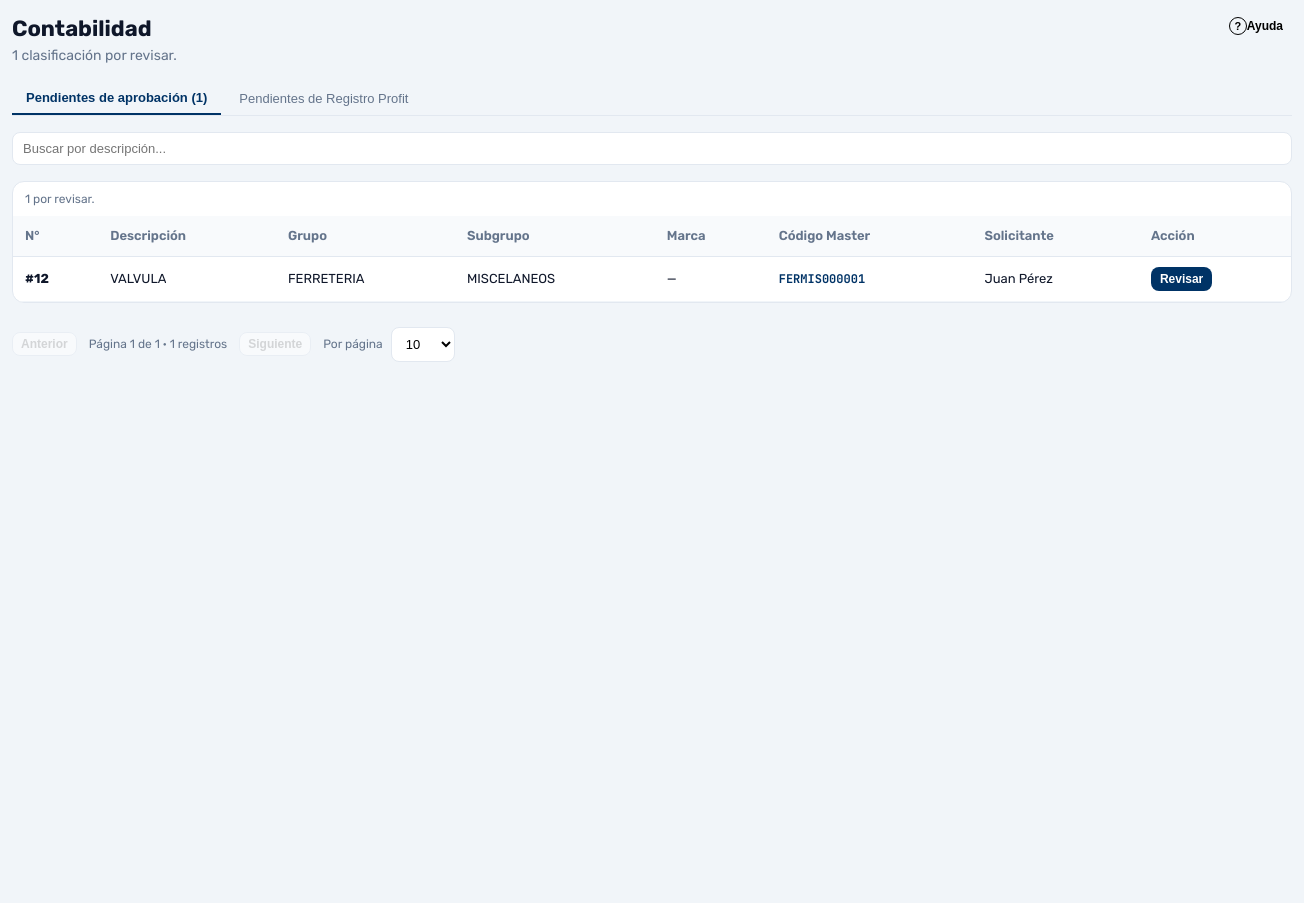
Test case: ContabilidadList 11C › bandeja con conteo y revisión
Expected: the text "1 clasificación por revisar." is shown, [12,45,177,66]
Expected: the text "VALVULA" is shown, [110,269,166,288]
Click the button "Revisar" at (1182, 278), box [1151,266,1212,290]
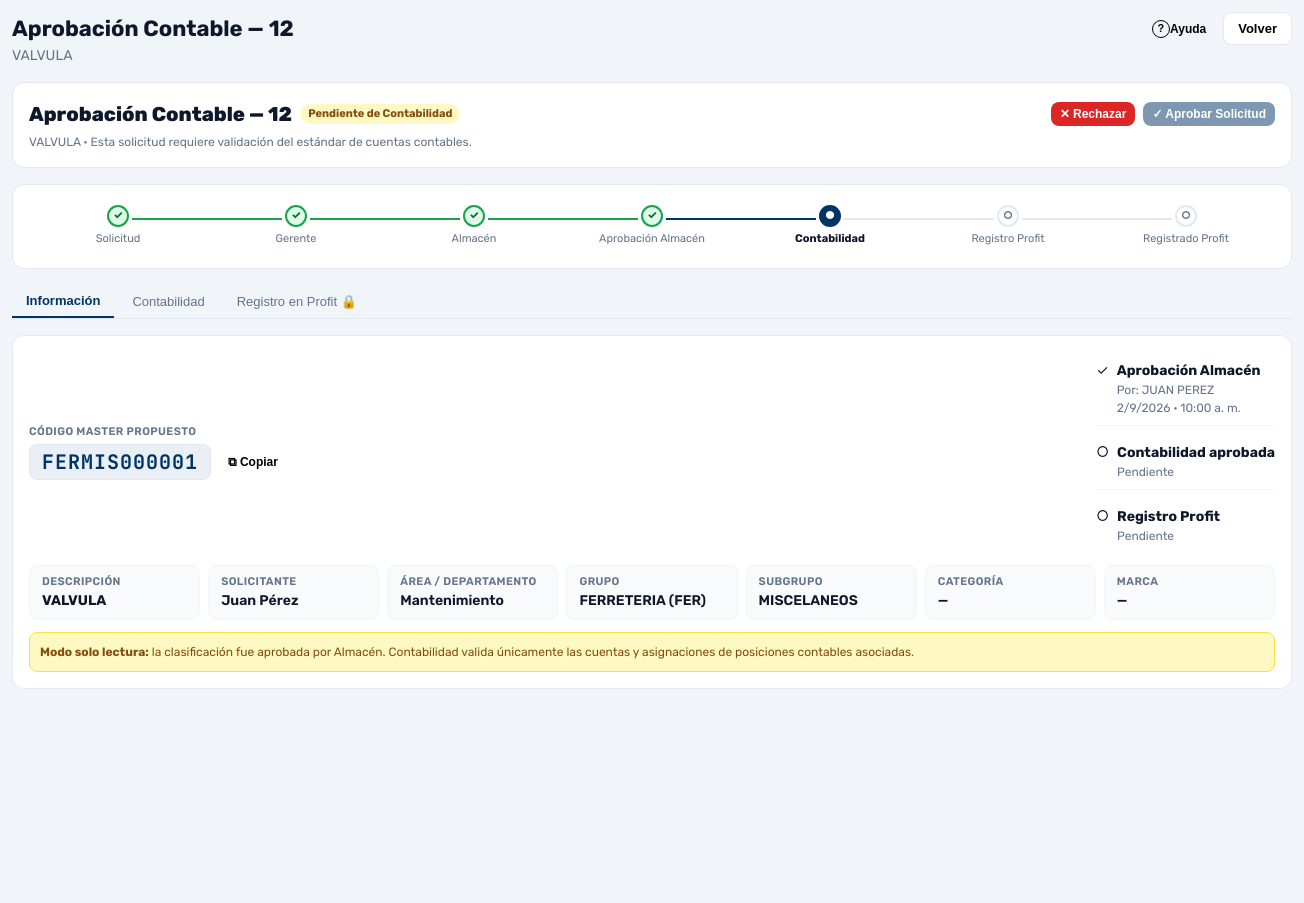
Expected: the text "Modo solo lectura:" is shown, [40,645,149,659]
Expected: the tab "Información" is shown, [12,284,114,318]
Expected: the tab "Contabilidad" is shown
Click the tab "Contabilidad" at (169, 301), box [118,284,219,318]
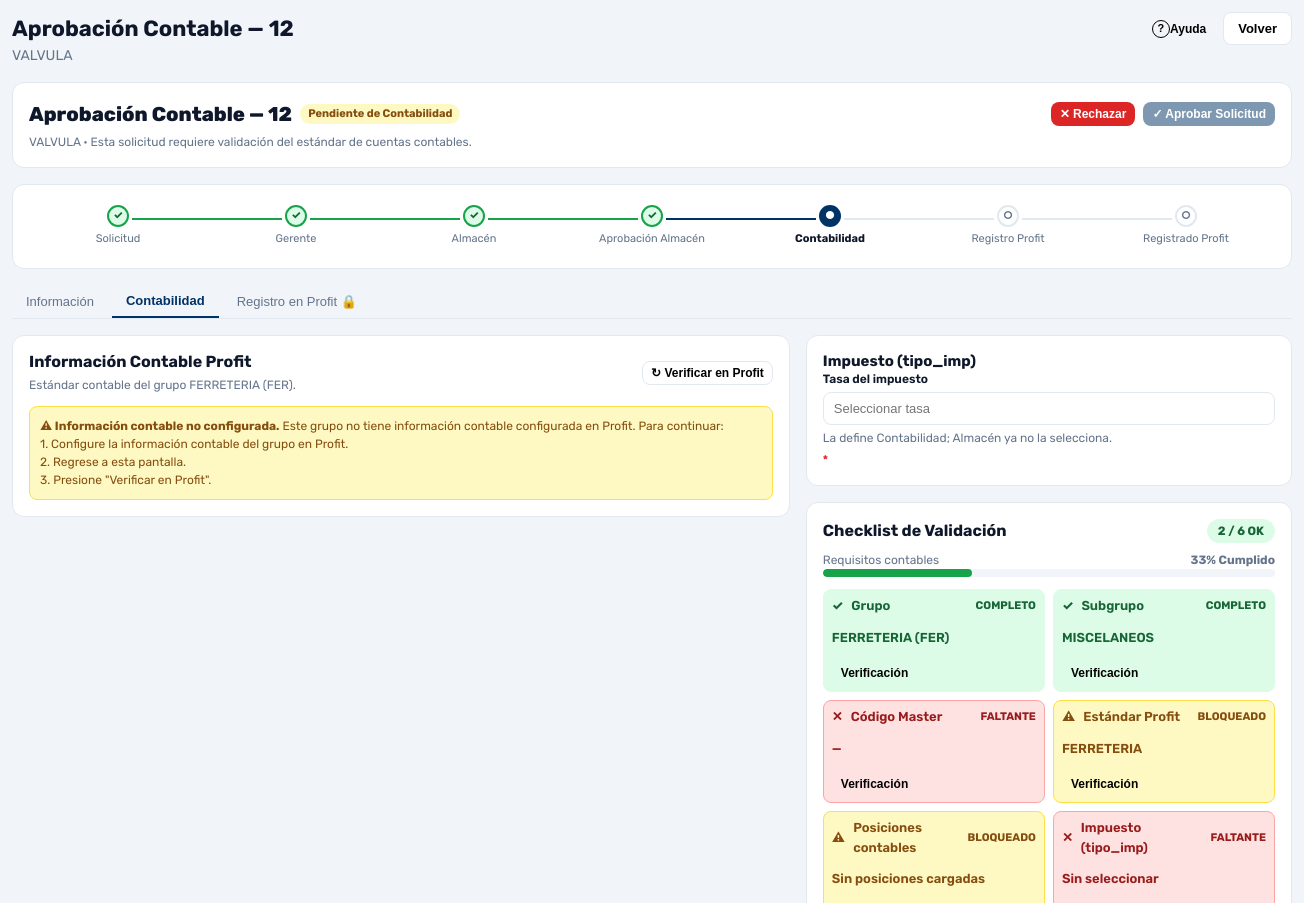
Expected: the heading "Información Contable Profit" is shown, [29,352,252,370]
